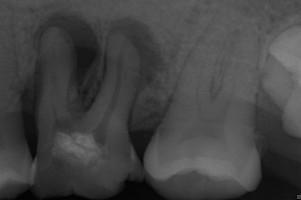Dental Caries: (32, 12, 164, 112)
